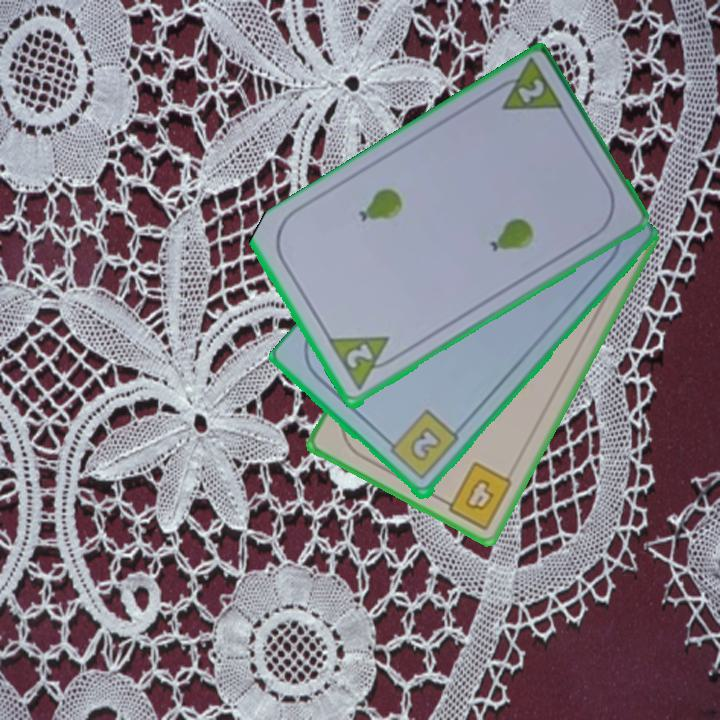2b: (381, 407, 462, 484)
2p: (486, 57, 567, 116), (342, 340, 376, 373)
4b: (435, 458, 516, 533)
